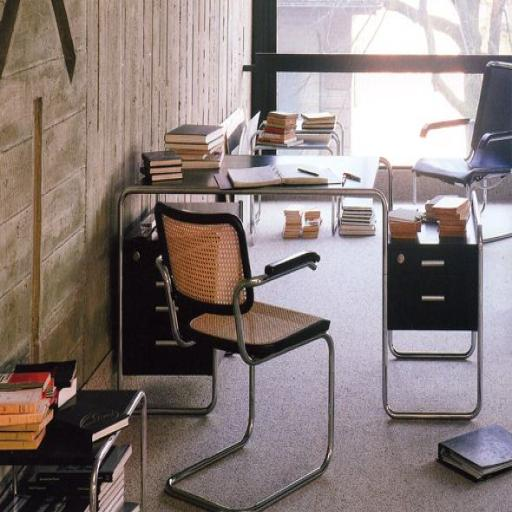bed: (228, 165, 341, 187), (165, 125, 223, 143)
bus: (155, 203, 334, 510), (413, 62, 511, 207)
stroller: (118, 155, 387, 389)
